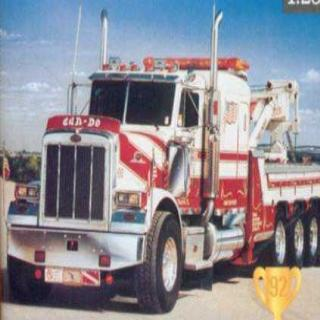Towing_truck: (4, 4, 319, 314)
